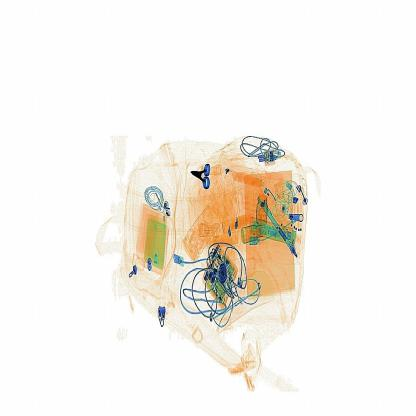gun: (186, 155, 228, 200)
